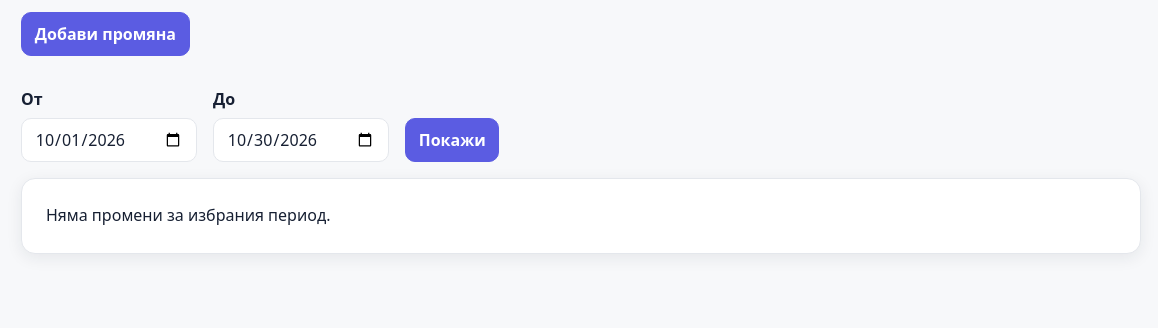
it: window filter › shows required errors under the fields only after submit and focuses the first
Expected: the text "Няма промени за избрания период." is shown, 21,178 -> 1141,254
Expected: the text "Въведете начална дата." is not shown
Clear the date field labelled "От" at (109, 140), box 21,118 -> 197,162
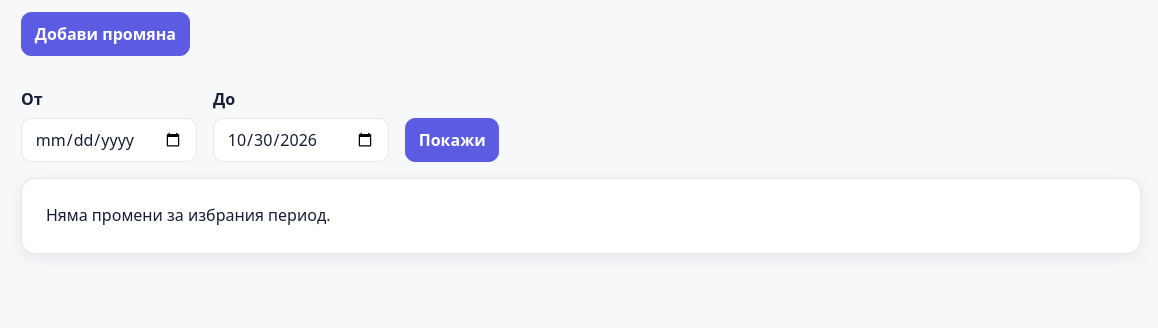
Clear the date field labelled "До" at (301, 140), box 213,118 -> 389,162
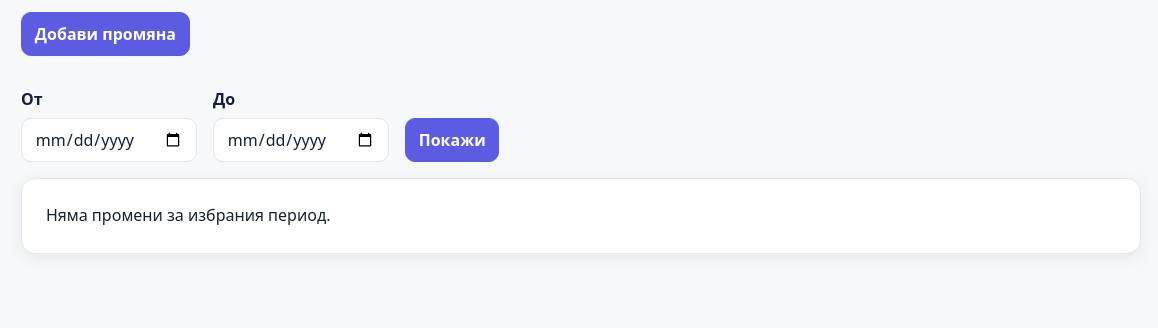
Click the button "Покажи" at (452, 140), box 405,118 -> 500,162
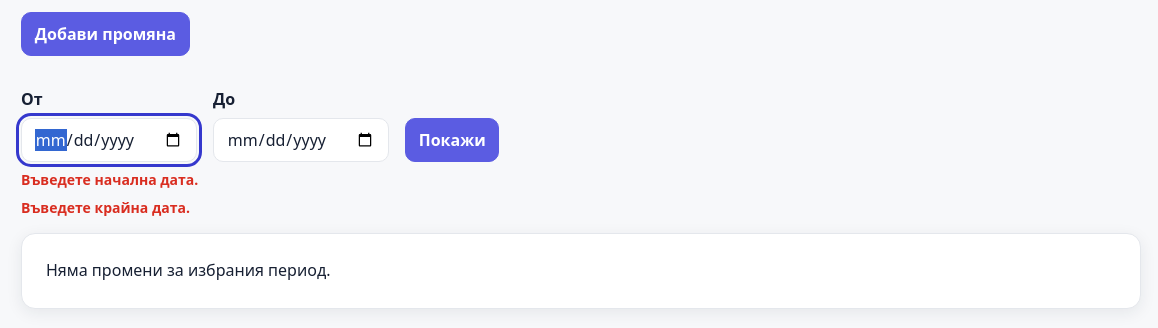
Result: the text "Въведете начална дата." is shown at 21,170 -> 198,189
Result: the text "Въведете крайна дата." is shown at 21,198 -> 190,217
